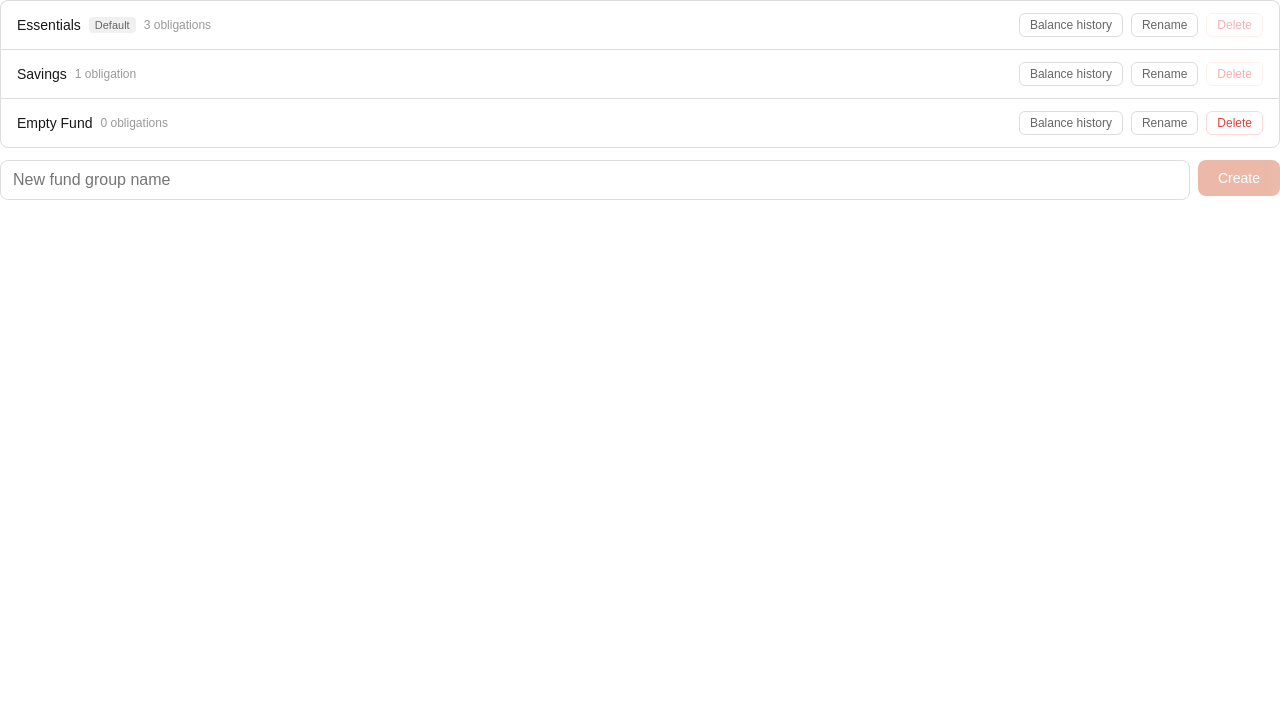
Scenario: FundsSection › deletes a fund group after confirmation
expect the text "Empty Fund" is shown: met, box [17, 115, 92, 131]
Click the button "Delete" in the row of "Empty Fund".
click(1235, 123)  # box [1206, 111, 1263, 135]
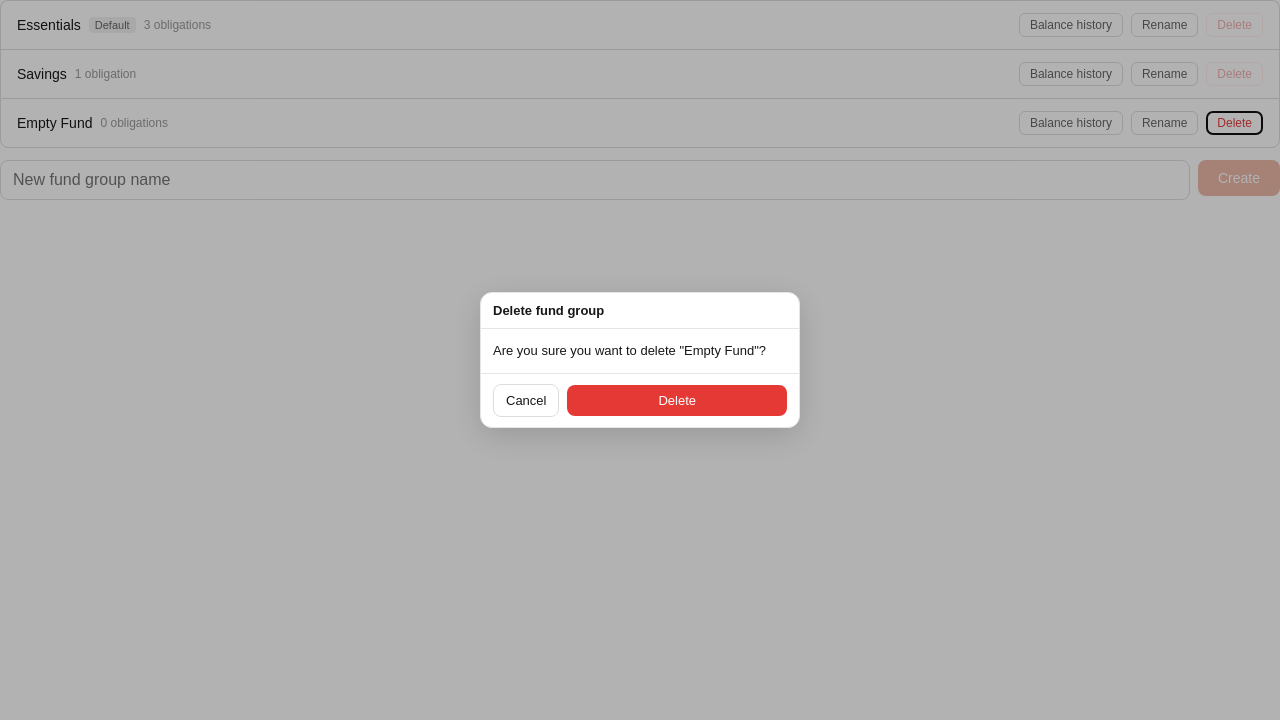
expect the dialog with test id "confirm-dialog" is shown: met, box [480, 292, 800, 428]
expect the text with test id "confirm-dialog-message" reads "Are you sure you want to delete \"Empty Fund\"?": met, box [493, 343, 766, 358]
Click the button with test id "confirm-dialog-confirm".
click(677, 400)  # box [568, 385, 787, 416]
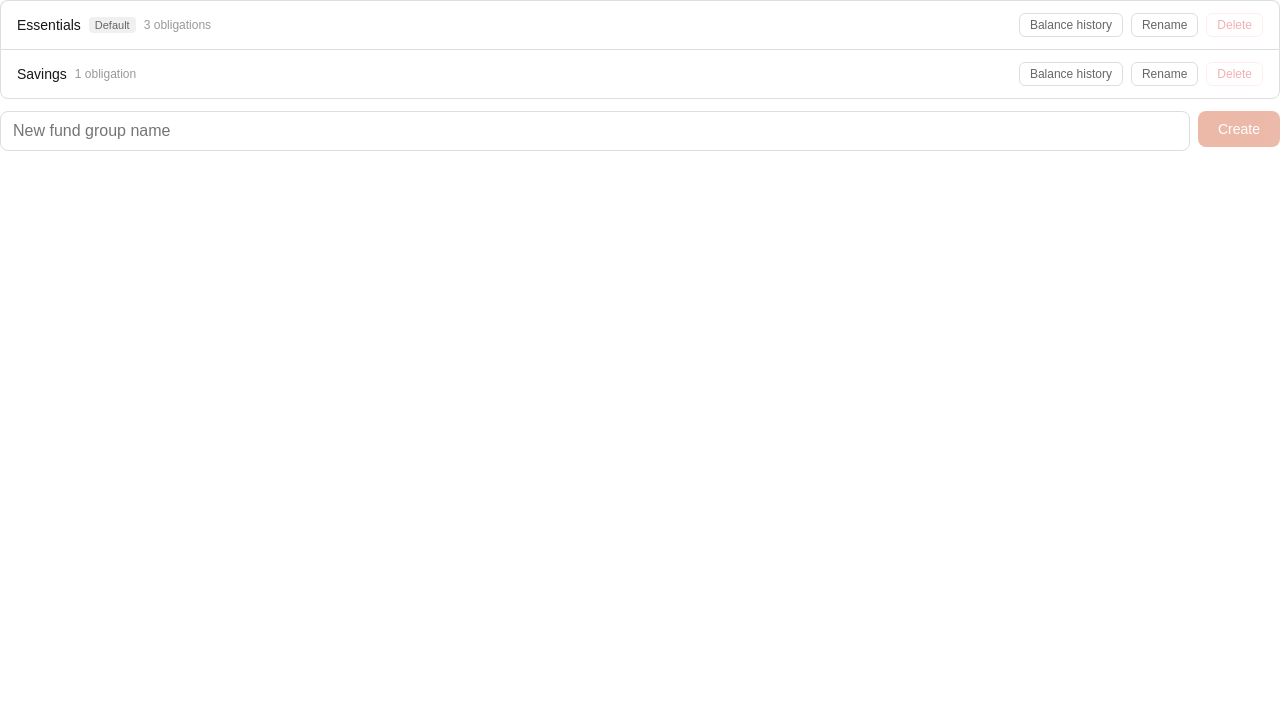
expect the text "Empty Fund" is gone: met
